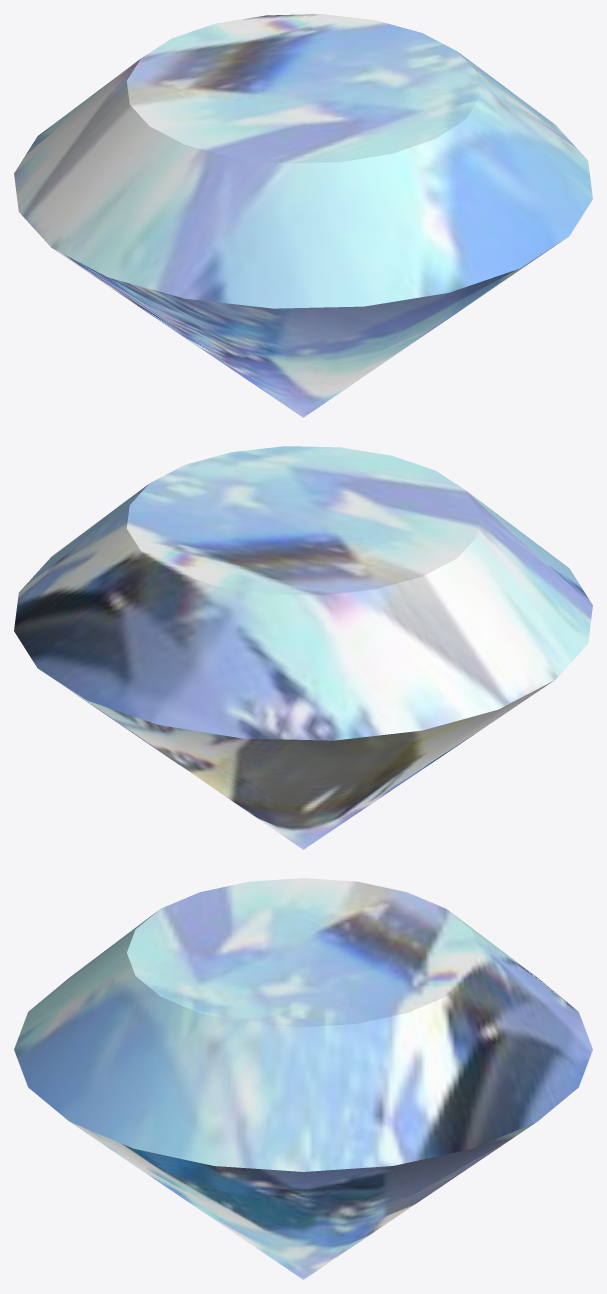
File: diamond.fbx
3 renders of one model, top to bottom at view 1: azimuth 30°, elevation 25°; view 2: azimuth 150°, elevation 25°; view 3: azimuth 270°, elevation 25°, orthographic.
Parts seen in each view (by area): view 1: pCone1; view 2: pCone1; view 3: pCone1.
Part boxes in pixels (left/top/right/bottom): pCone1: left=14, top=14, right=592, bottom=417; pCone1: left=14, top=446, right=592, bottom=849; pCone1: left=14, top=878, right=592, bottom=1279.
Size of the model in its own units: 8 by 4.99 by 8.
1 material, 1 textured.
